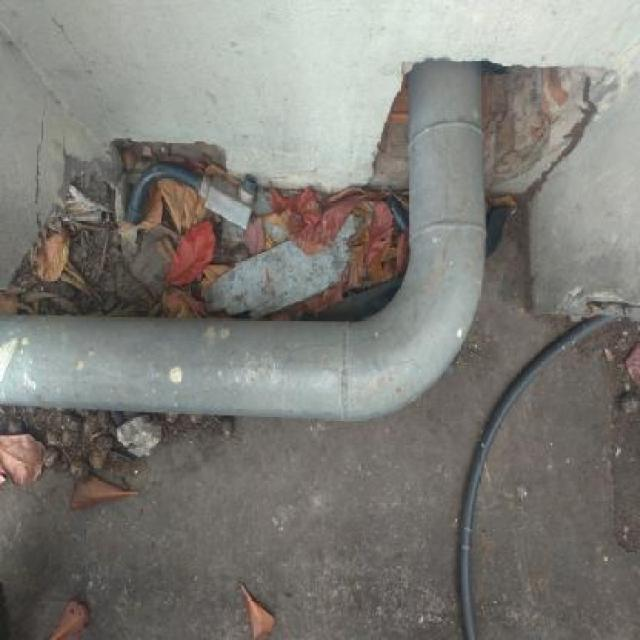gas: (1, 62, 484, 417)
